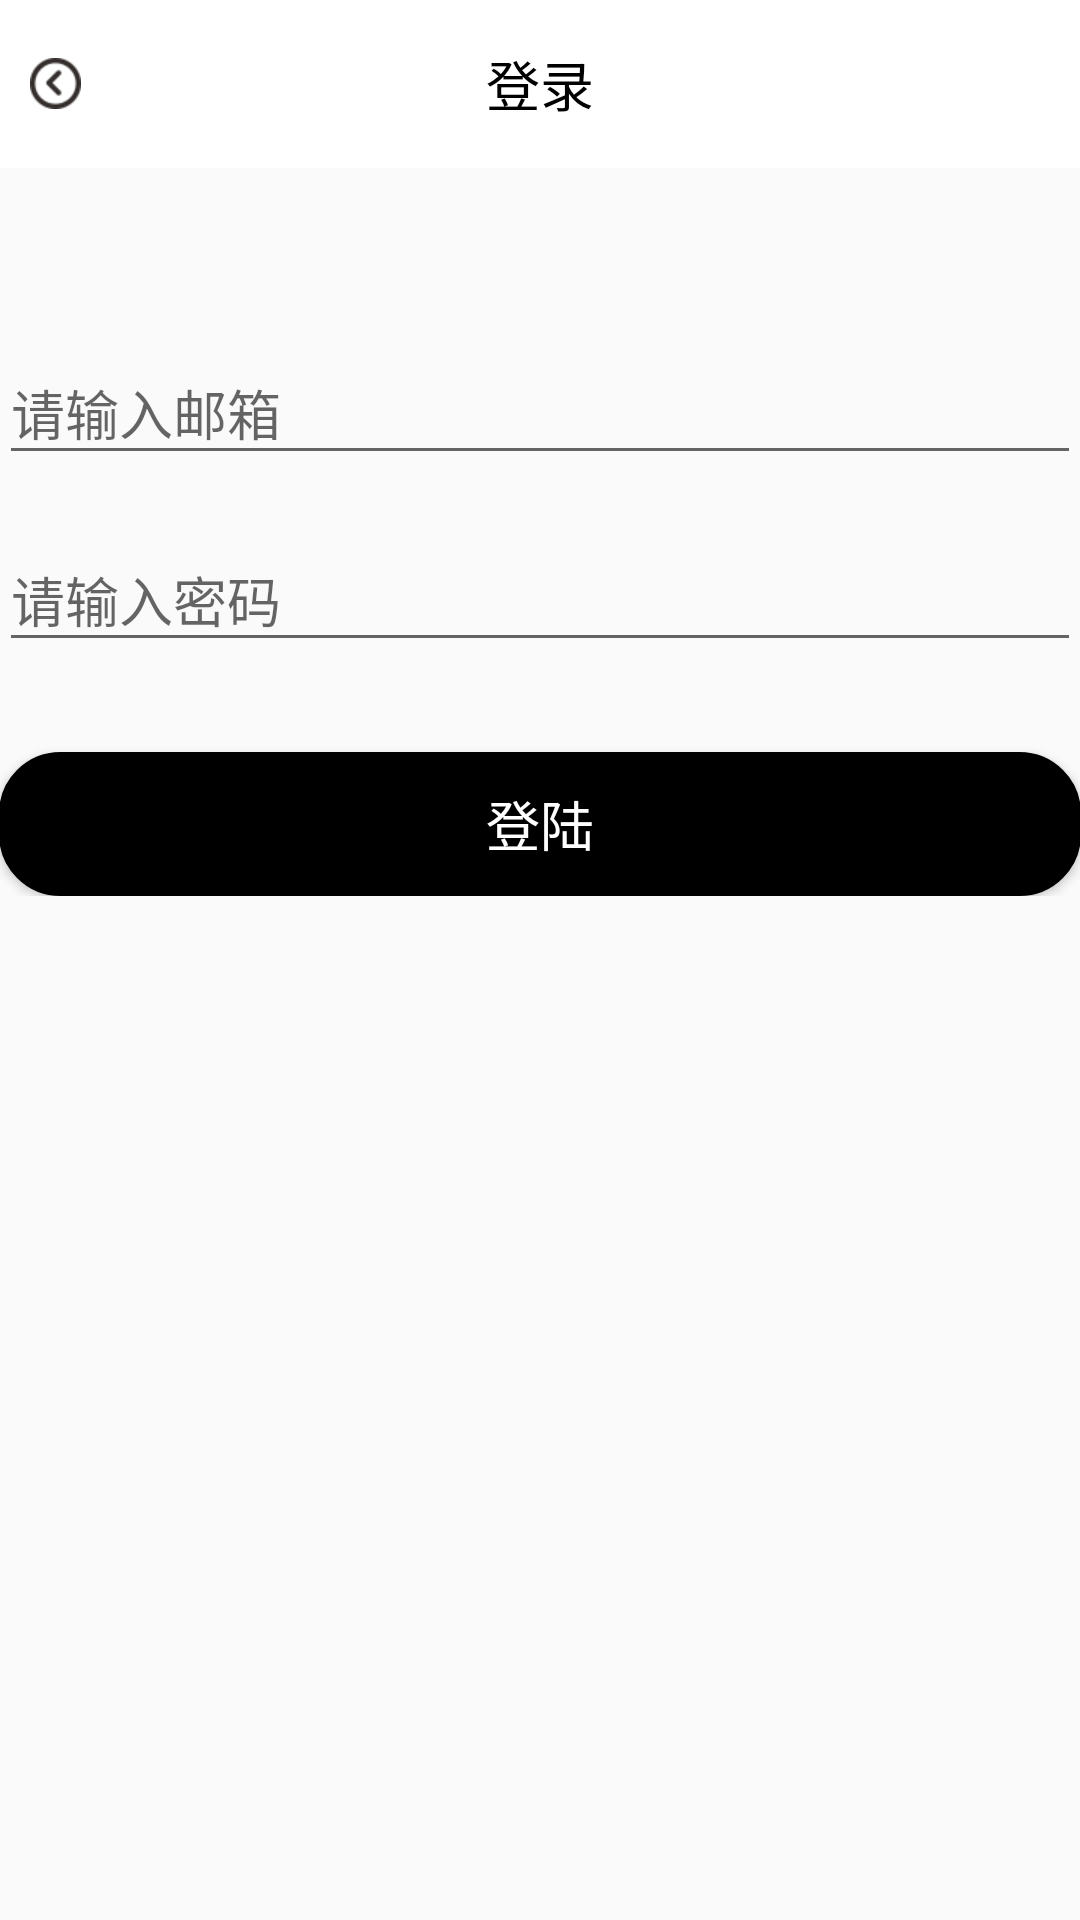

Screen size 1080px x 1920px. Icon name, then its box in pixels as (x1, y1, x2, y2):
back: (30, 58, 81, 109)
